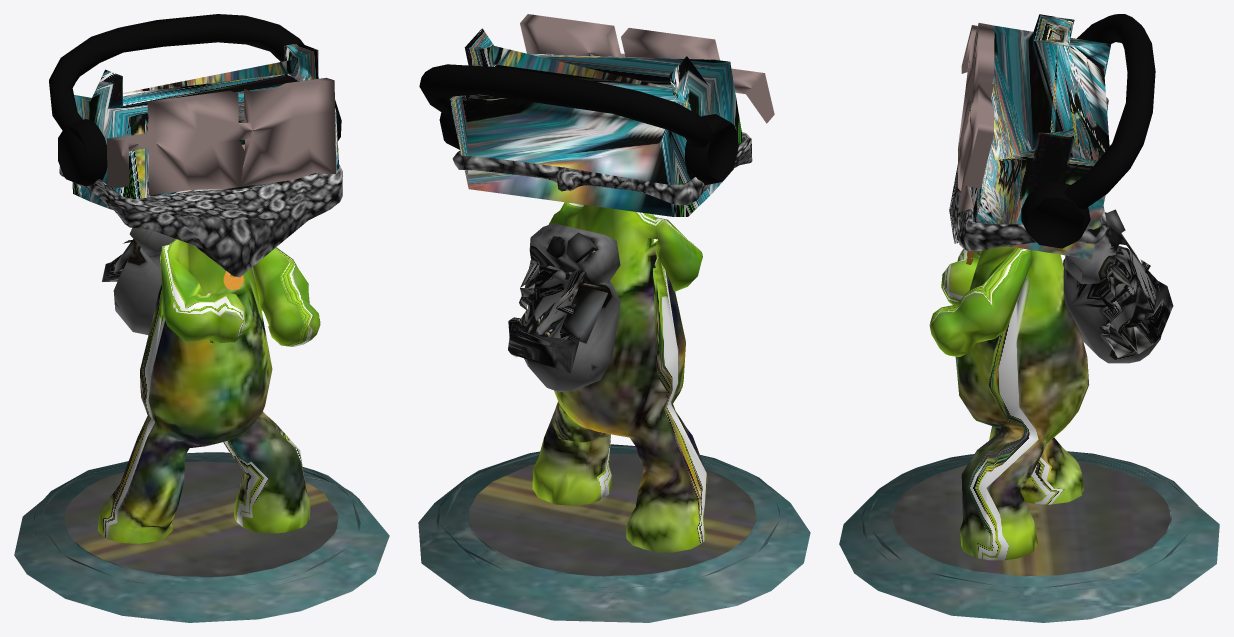
3 renders of one model, left to right at view 1: azimuth 30°, elevation 25°; view 2: azimuth 150°, elevation 25°; view 3: azimuth 270°, elevation 25°, orthographic. The views are drawn at different scales.
Size of the model in its own units: 1.44 by 2.04 by 1.43.
Materials: 9 (8 with a texture image).
